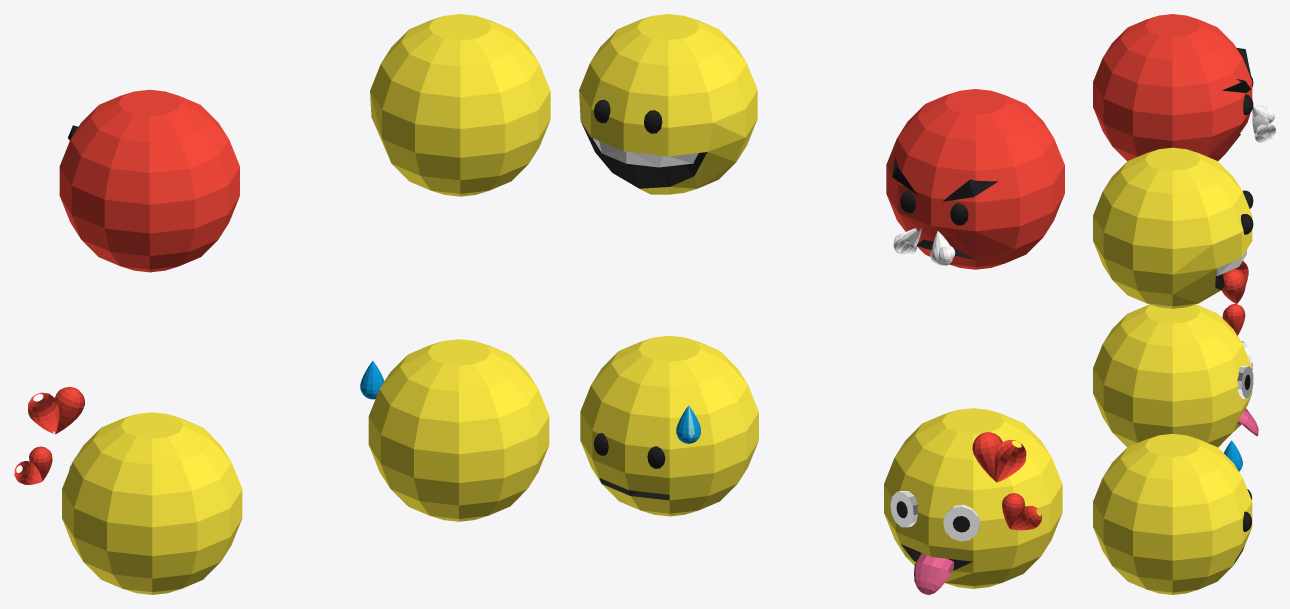
The model's file is scene_JvCPBOJ13F.glb.
3 renders of one model, left to right at view 1: azimuth 30°, elevation 25°; view 2: azimuth 150°, elevation 25°; view 3: azimuth 270°, elevation 25°, orthographic. The views are drawn at different scales.
Parts seen in each view (by area): view 1: Node; view 2: Node; view 3: Node.
Part boxes in pixels (left/top/right/bottom): Node: left=14, top=14, right=550, bottom=594; Node: left=579, top=14, right=1064, bottom=594; Node: left=1093, top=14, right=1275, bottom=594.
Size of the model in its own units: 1.35 by 1.3 by 0.4974.
